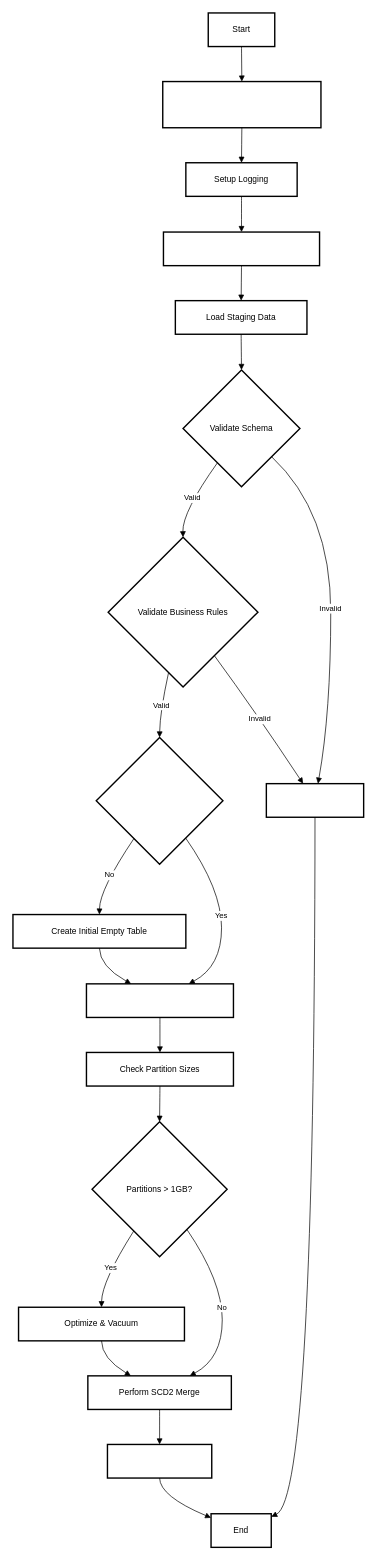
Image size: 376x1560. Some labels were removed from this diagram. Here are the shapes that lost their labels. From the top down, the centre of each, then its label:
point (241, 104): Initialize Config & Metrics
point (241, 248): Initialize Spark Session
point (159, 800): Delta Table Exists?
point (314, 800): Raise Error
point (159, 1000): Prepare Staging Data
point (159, 1460): Save Metrics
